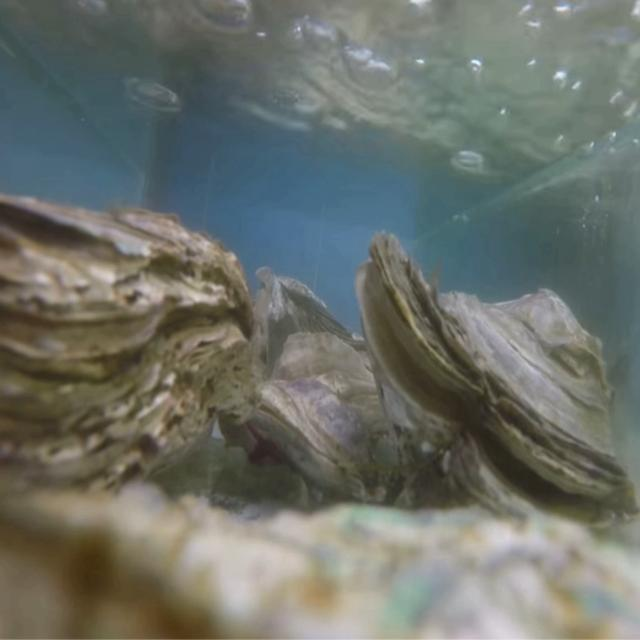Oyster-Closed: (0, 194, 255, 524), (247, 330, 414, 507)
Oyster-Indeterminate: (0, 482, 640, 640)
Oyster-Open: (354, 230, 640, 542)
